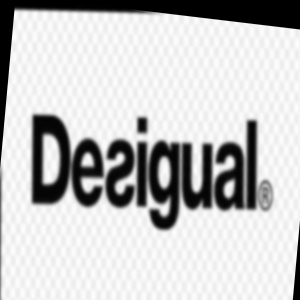desigual: (272, 68, 299, 153)
